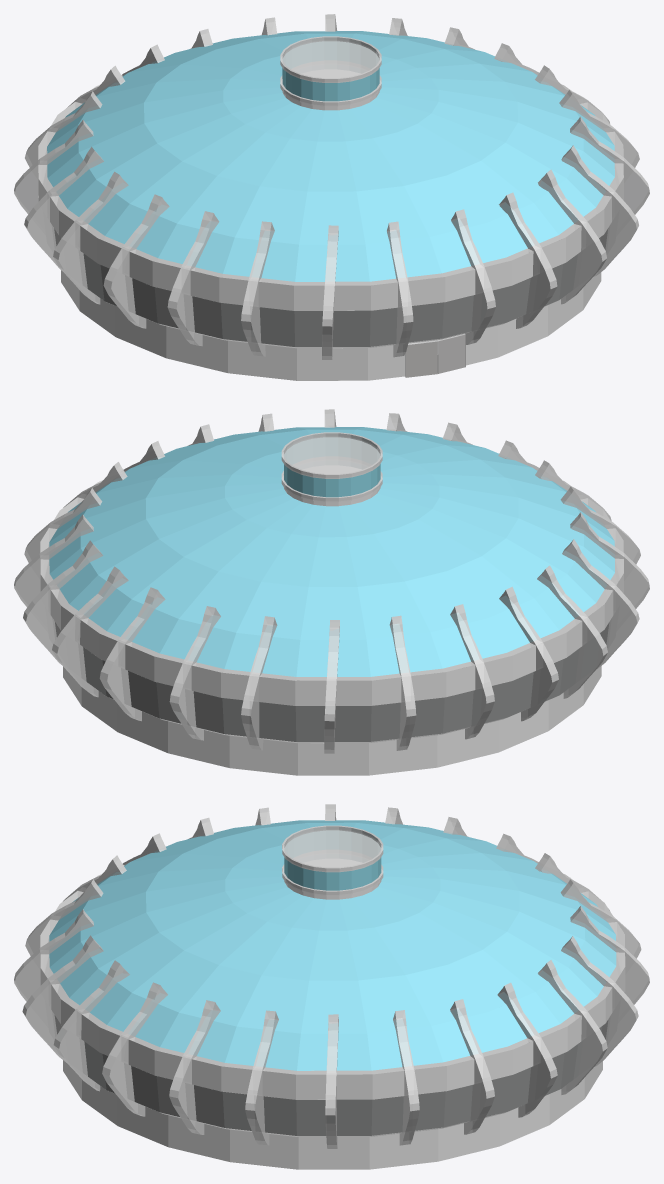
Rendered from circus.glb.
3 views of the same model, one above another, from view 1: azimuth 30°, elevation 25°; view 2: azimuth 150°, elevation 25°; view 3: azimuth 270°, elevation 25° (orthographic).
Parts seen in each view (by area): view 1: Object_8, Object_4; view 2: Object_8, Object_4; view 3: Object_8, Object_4.
Part boxes in pixels (x1,y1,x2,y2): Object_8: [38, 31, 623, 380]; Object_4: [14, 14, 649, 380]; Object_8: [40, 427, 623, 775]; Object_4: [14, 409, 649, 753]; Object_8: [40, 820, 625, 1169]; Object_4: [14, 804, 649, 1148].
Size of the model in its own units: 3186 by 1154 by 3187.
Materials: 2 (2 with a texture image).
